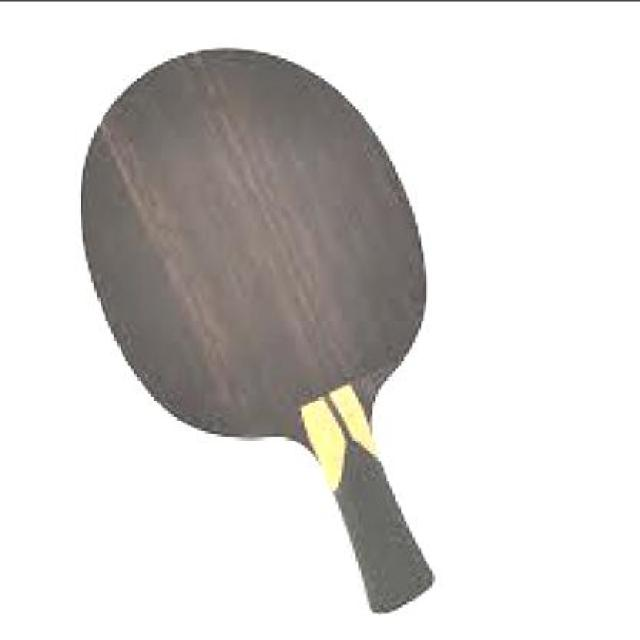table_tennis_racket: (78, 45, 432, 443)
